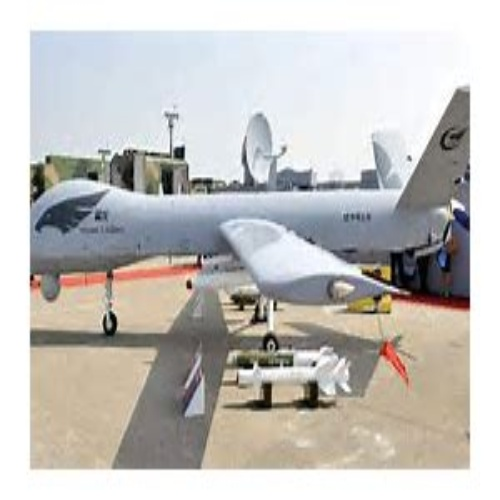uav500: (31, 88, 470, 350)
